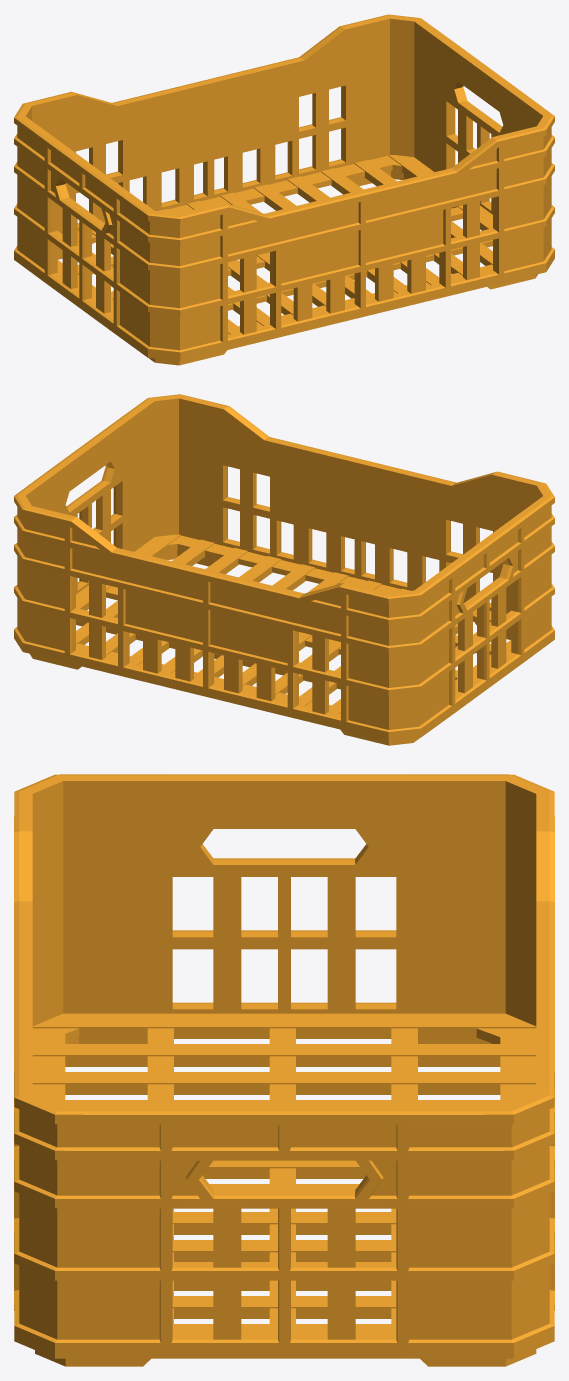
The model's file is SM_Crate_Plastic_Small.fbx.
3 views of the same model, one above another, from view 1: azimuth 30°, elevation 25°; view 2: azimuth 150°, elevation 25°; view 3: azimuth 270°, elevation 25° (orthographic). The views are drawn at different scales.
Visible parts, largest first — view 1: crate-plastic-small; view 2: crate-plastic-small; view 3: crate-plastic-small.
Part boxes in pixels (x1=…): crate-plastic-small: x1=14, y1=14, x2=554, y2=365; crate-plastic-small: x1=14, y1=394, x2=554, y2=745; crate-plastic-small: x1=14, y1=774, x2=554, y2=1366.
Bounding box in the file's own units: 0.6083 × 0.2177 × 0.4083.
